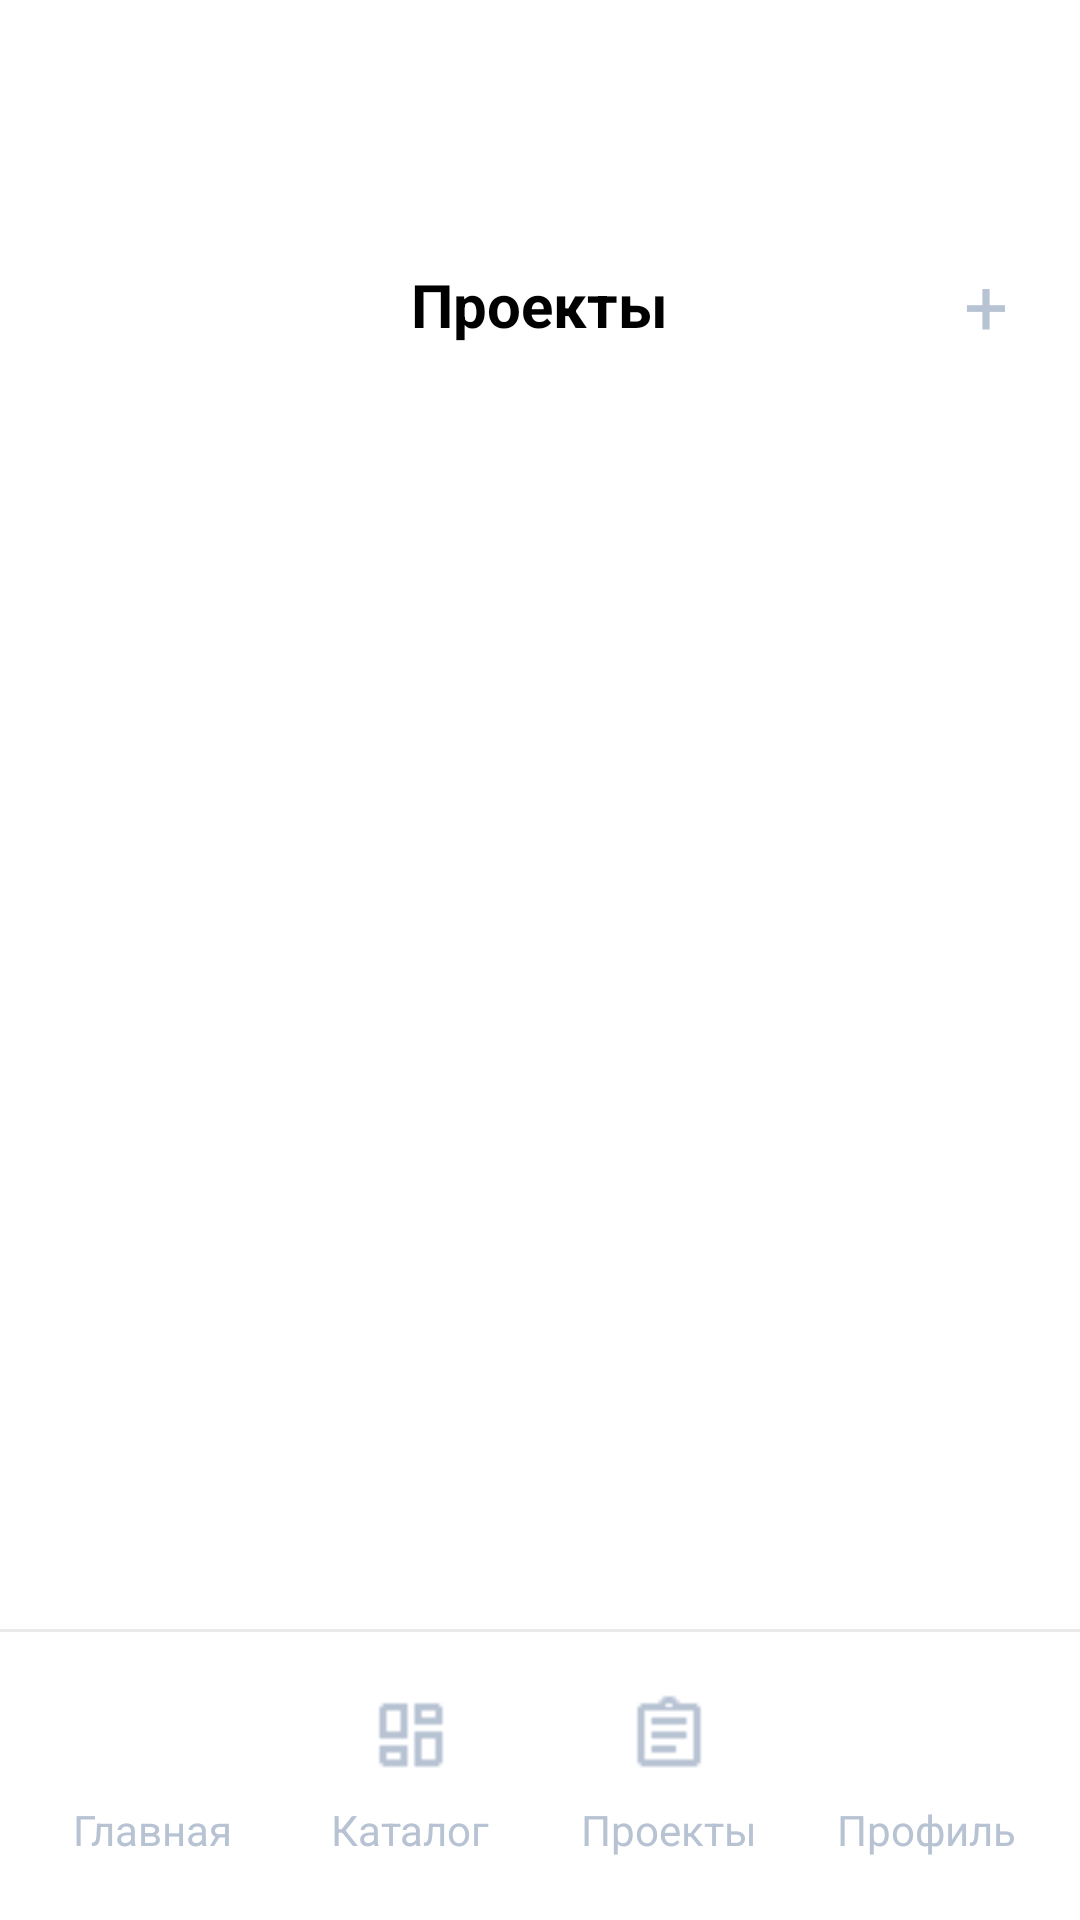

Named icons in this screenshot (1080w x 1920h) and their centers, point (x, y):
catalog page: point (411, 1735)
projects page: point (669, 1731)
